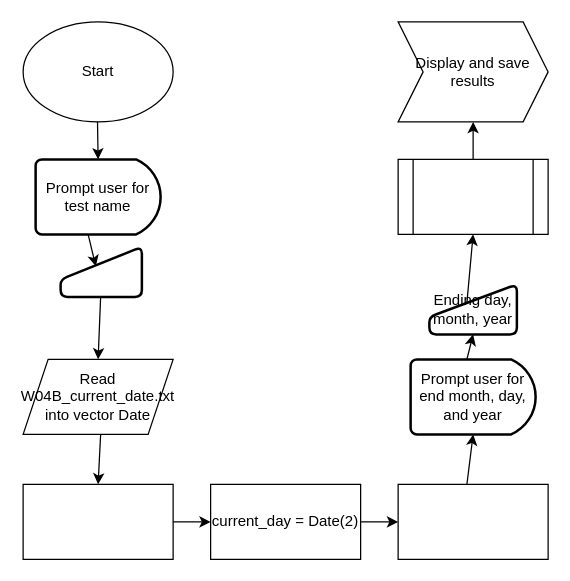
This 570x581 diagram has some shape labels left out. Here are the shapes that lost their labels. From the top down, the box of each, then its label:
(397, 158, 548, 234): Calculate time between start and end days
(59, 245, 142, 298): Test name
(22, 483, 173, 559): current_month = Date(1)
(397, 483, 548, 559): current_year = Date(3)
